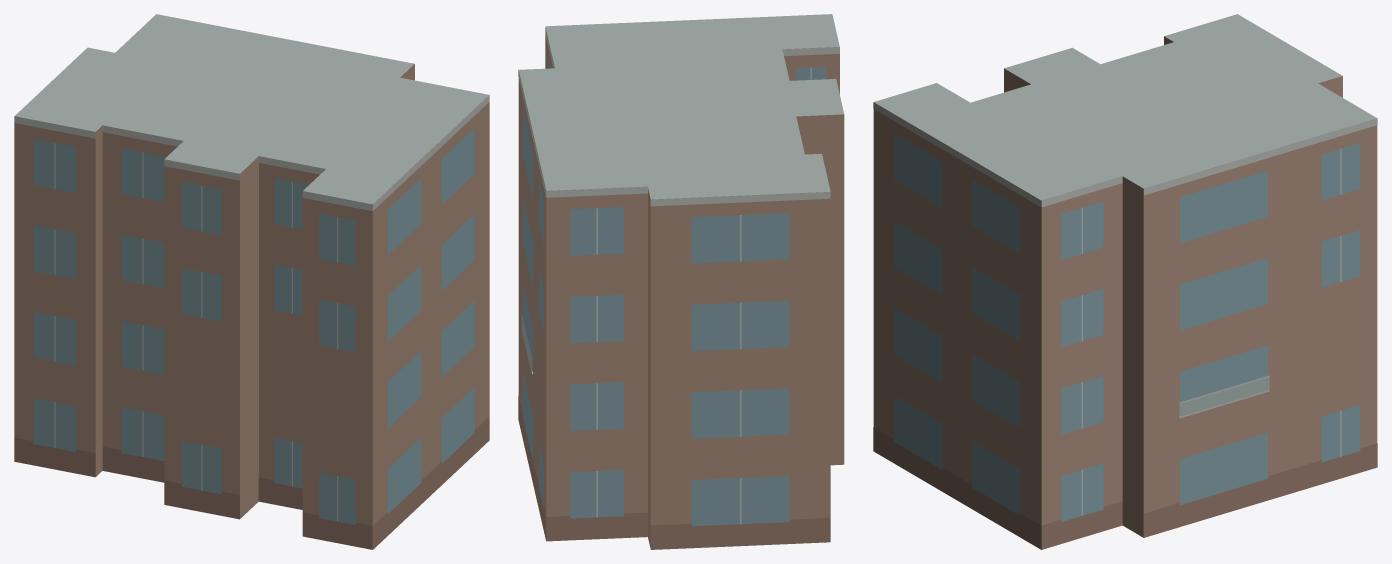
Rendered from survey-upis-32956426.glb.
3 renders of one model, left to right at view 1: azimuth 30°, elevation 25°; view 2: azimuth 150°, elevation 25°; view 3: azimuth 270°, elevation 25°, orthographic.
Visible parts, largest first — view 1: survey-upis-32956426.tmp; view 2: survey-upis-32956426.tmp; view 3: survey-upis-32956426.tmp.
Part boxes in pixels (<box>): survey-upis-32956426.tmp: <box>14,14,489,549</box>; survey-upis-32956426.tmp: <box>518,14,844,549</box>; survey-upis-32956426.tmp: <box>873,14,1377,549</box>.
Size of the model in its own units: 14.22 by 12.4 by 16.22.
